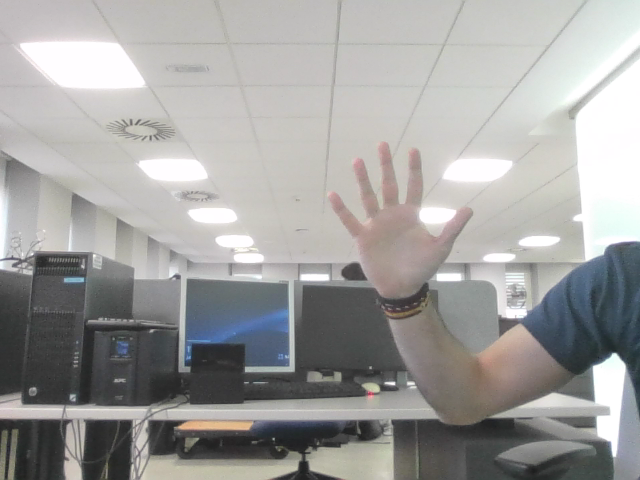Mano Abierta: (340, 154, 459, 265)
